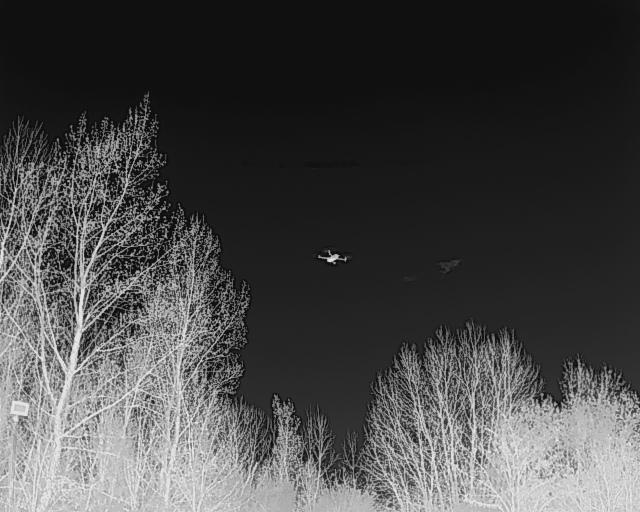drone: (313, 244, 354, 278)
